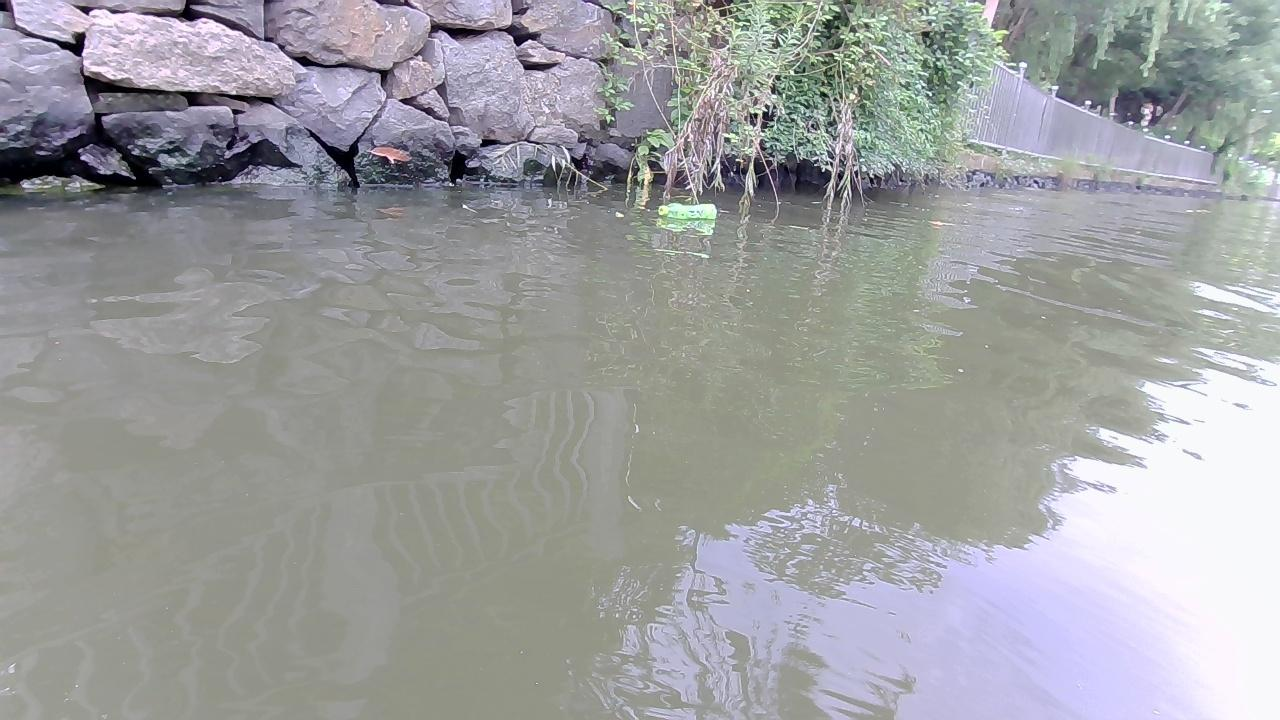bottle: (656, 202, 717, 219)
